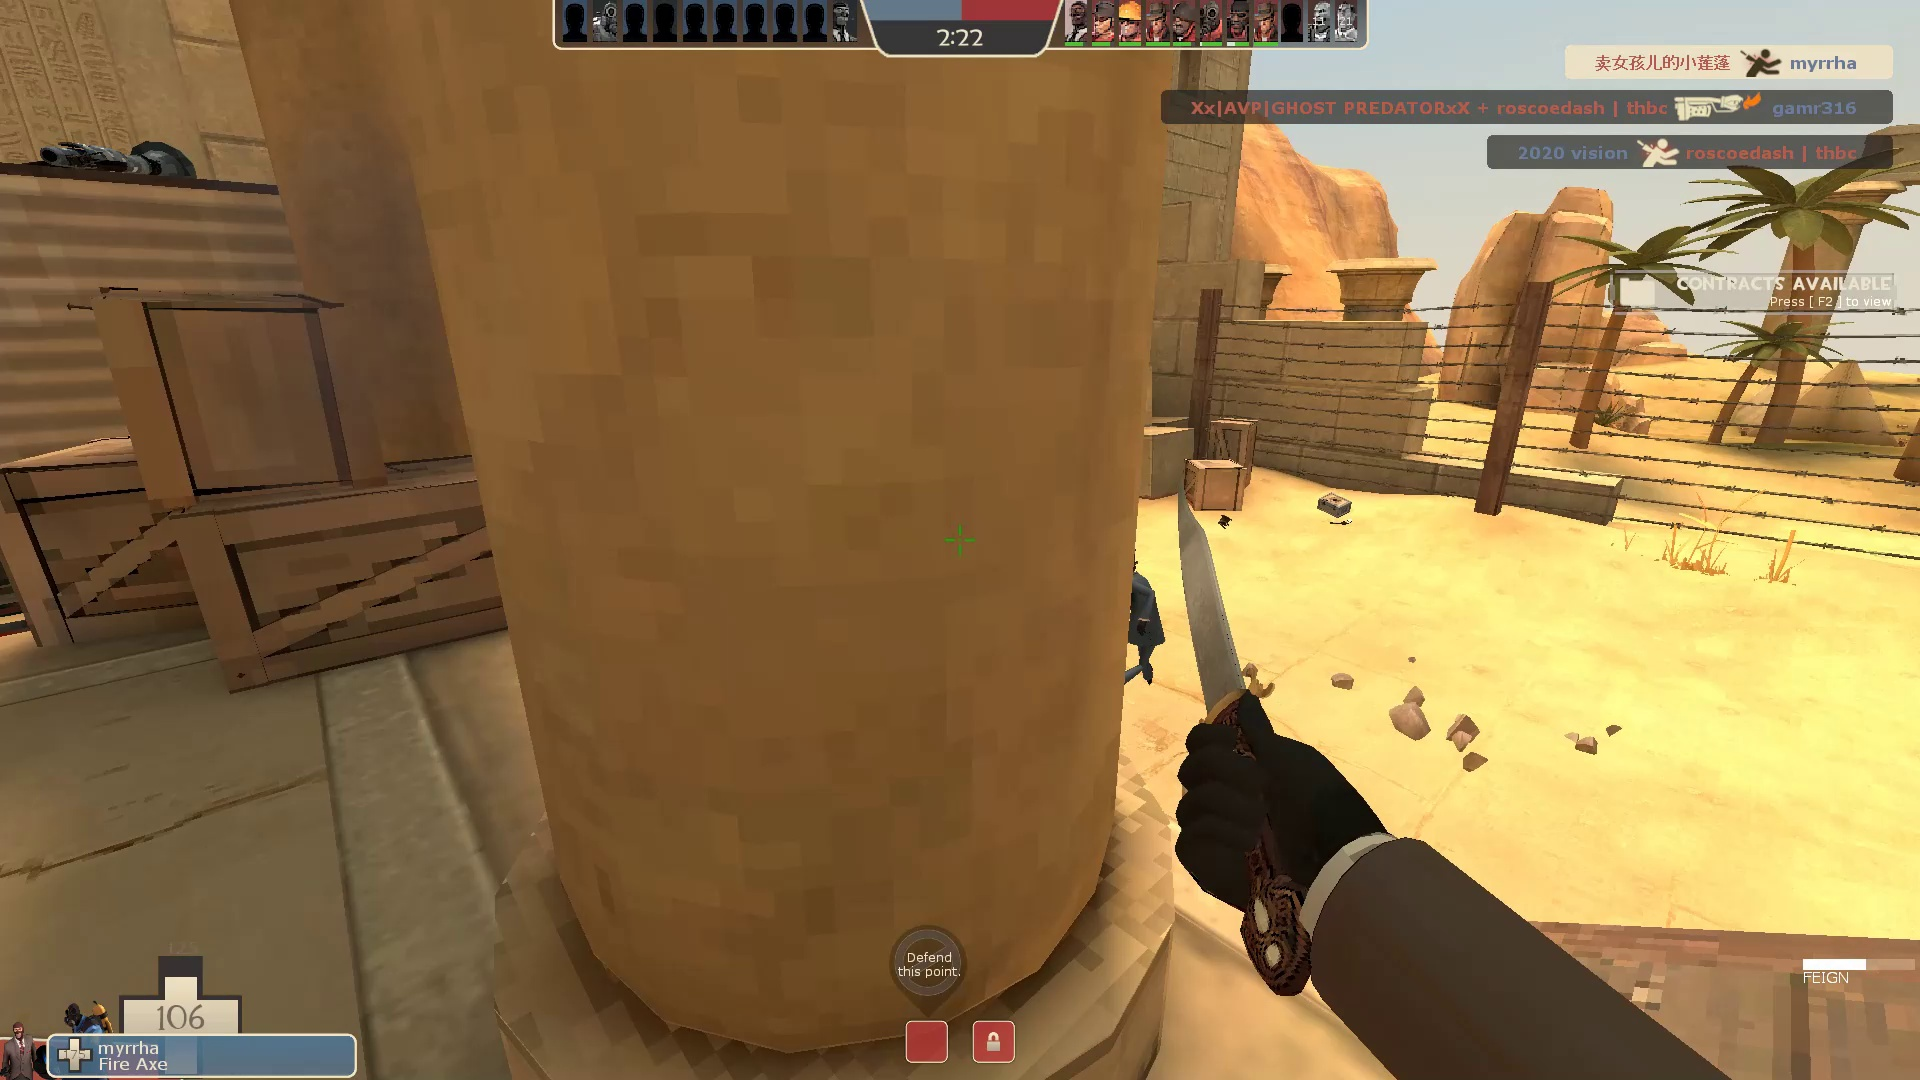blu_spy: (1081, 539, 1178, 705)
